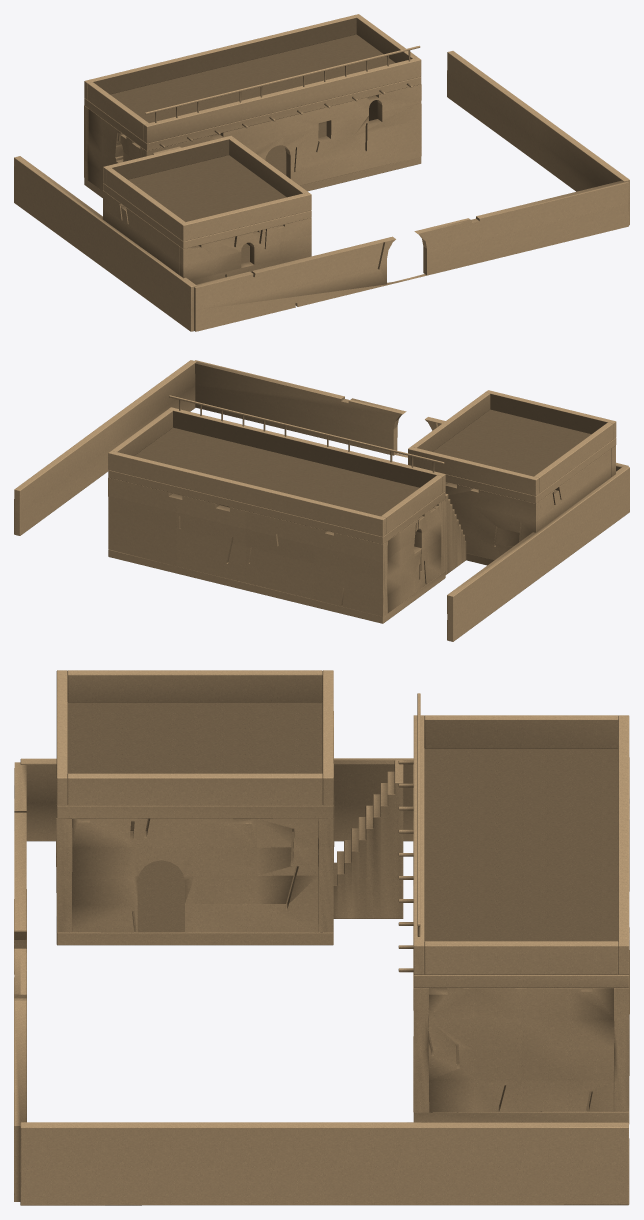
Rendered from court_8.glb.
3 renders of one model, top to bottom at view 1: azimuth 30°, elevation 25°; view 2: azimuth 150°, elevation 25°; view 3: azimuth 270°, elevation 25°, orthographic. The views are drawn at different scales.
Visible parts, largest first — view 1: court; view 2: court; view 3: court.
Part boxes in pixels (x1,y1,x2,y2): court: (14, 14, 629, 331); court: (14, 360, 629, 641); court: (14, 670, 629, 1205).
Bounding box in the file's own units: 24.13 × 6.18 × 17.02.
Materials: 1 (1 with a texture image).
